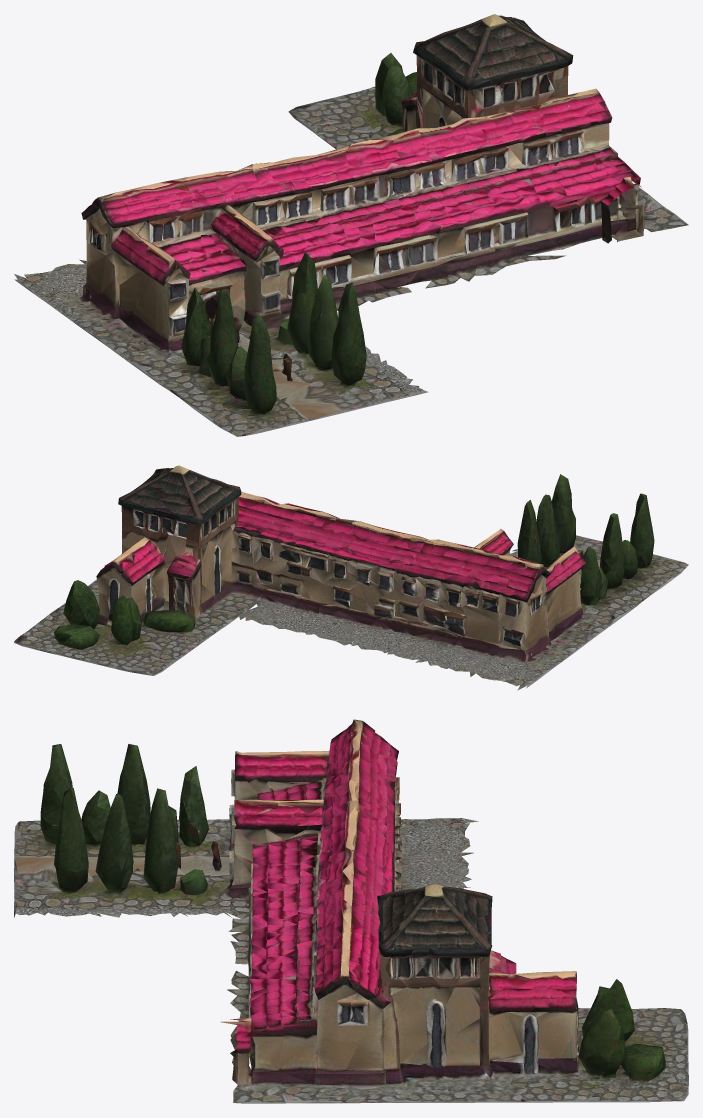
File: ospedale.glb
The picture shows the model from 3 angles, top to bottom: view 1: azimuth 30°, elevation 25°; view 2: azimuth 150°, elevation 25°; view 3: azimuth 270°, elevation 25°; orthographic projection. The views are drawn at different scales.
Bounding box in the file's own units: 2.98 × 0.8314 × 2.99.
1 material, 1 textured.
